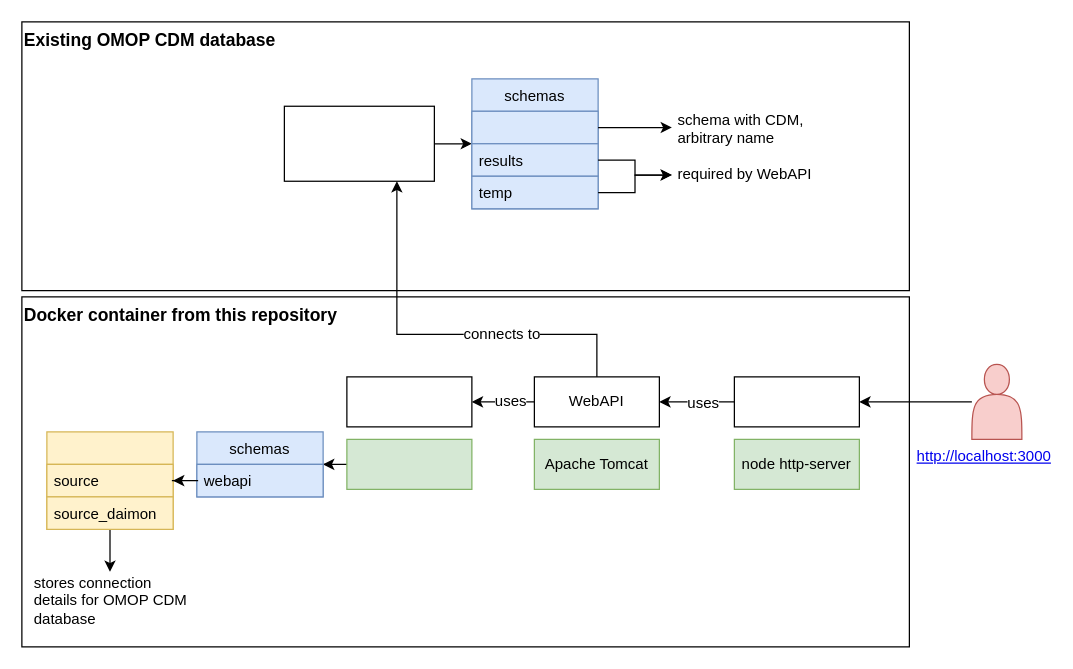
Image size: 1073x669. Some labels were removed from this diagram. Here are the shapes that lost their labels. From the top down, the box of each, then its label:
(283, 105, 434, 181): OMOP CDM database
(471, 110, 598, 144): cdm
(346, 376, 472, 427): WebAPI database
(733, 376, 859, 427): ATLAS
(46, 431, 173, 529): tables
(346, 438, 472, 489): Postgres
